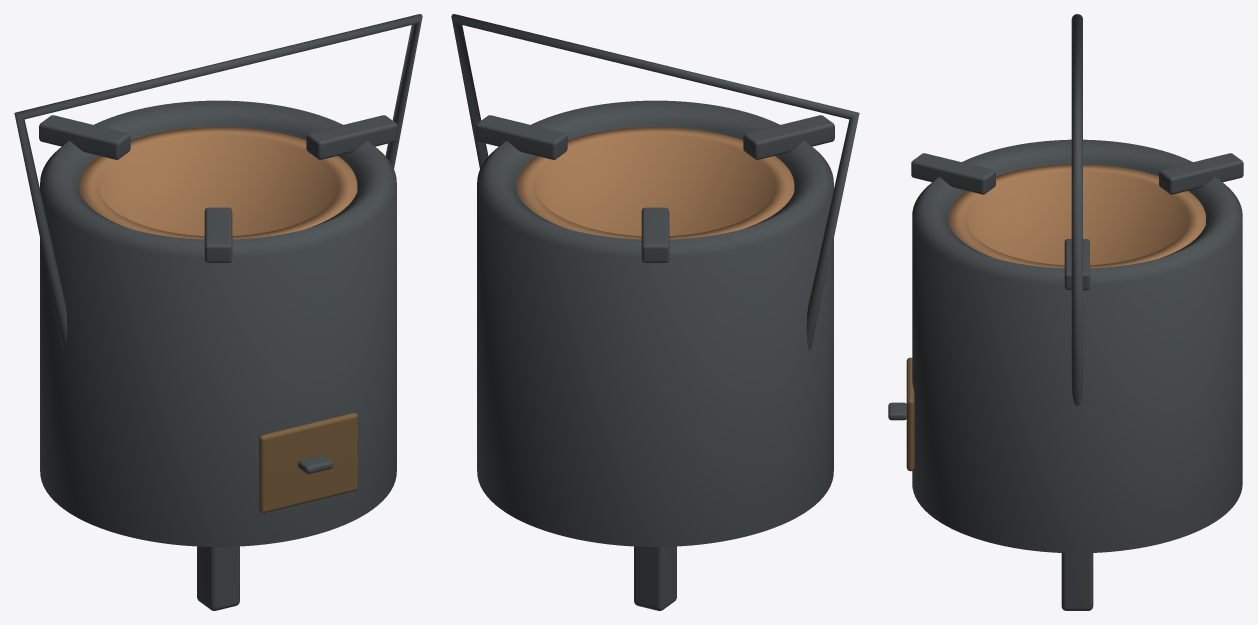
The model's file is jiko-stove.fbx.
3 renders of one model, left to right at view 1: azimuth 30°, elevation 25°; view 2: azimuth 150°, elevation 25°; view 3: azimuth 270°, elevation 25°, orthographic. The views are drawn at different scales.
Visible parts, largest first — view 1: Cylindrical stove shell, Clay-lined chamber, Wire carry handle, Air door, Stove foot.002, Pot rest, Pot rest.001, Pot rest.002; view 2: Cylindrical stove shell, Clay-lined chamber, Wire carry handle, Stove foot.001, Pot rest, Pot rest.002, Pot rest.001; view 3: Cylindrical stove shell, Clay-lined chamber, Wire carry handle, Pot rest.001, Pot rest.002, Stove foot, Air door, Pot rest.
Part boxes in pixels (x1,y1,x2,y2): Cylindrical stove shell: (40,100,396,546); Clay-lined chamber: (79,127,357,239); Wire carry handle: (14,14,422,350); Air door: (259,412,358,513); Stove foot.002: (197,546,239,610); Pot rest: (306,115,397,159); Pot rest.001: (39,115,130,159); Pot rest.002: (204,207,232,262); Cylindrical stove shell: (477,100,833,546); Clay-lined chamber: (516,127,794,239); Wire carry handle: (451,14,859,350); Stove foot.001: (634,546,676,610); Pot rest: (476,115,567,159); Pot rest.002: (743,115,834,159); Pot rest.001: (641,207,669,262); Cylindrical stove shell: (912,139,1242,553); Clay-lined chamber: (948,164,1205,268); Wire carry handle: (1071,14,1082,406); Pot rest.001: (1159,153,1243,194); Pot rest.002: (911,153,995,194); Stove foot: (1061,553,1093,610); Air door: (906,357,914,471); Pot rest: (1064,239,1089,290).
Size of the model in its own units: 137 by 153 by 112.
